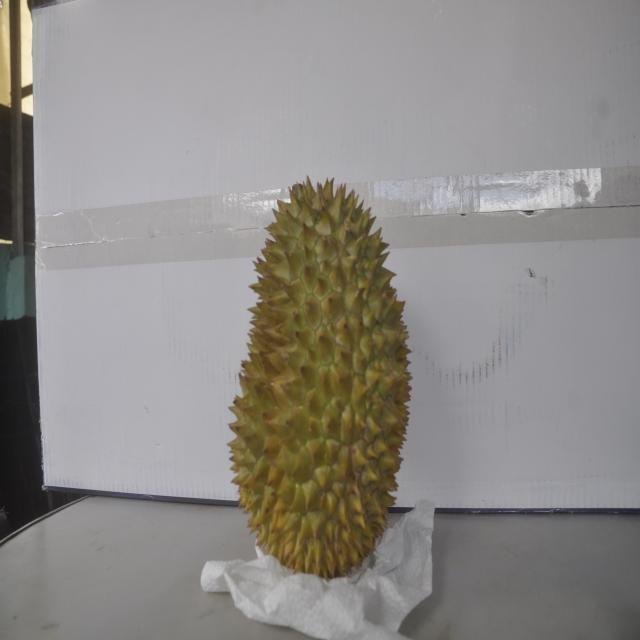mature: (227, 176, 416, 576)
